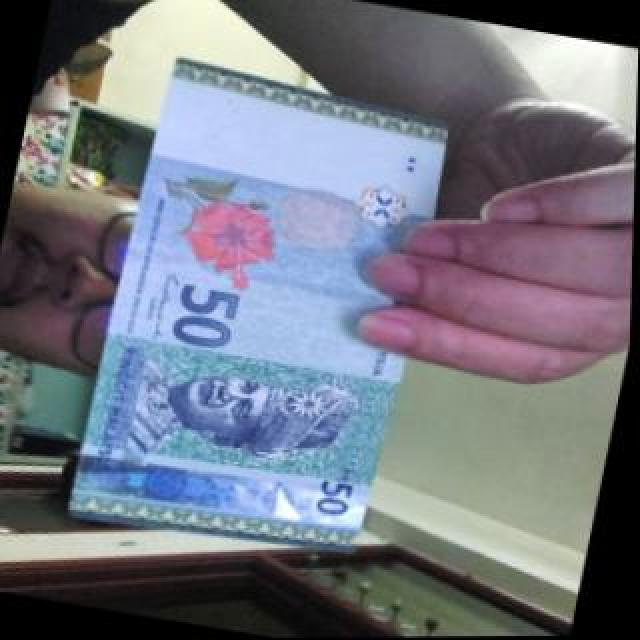50 Ringgit: (66, 48, 468, 570)
